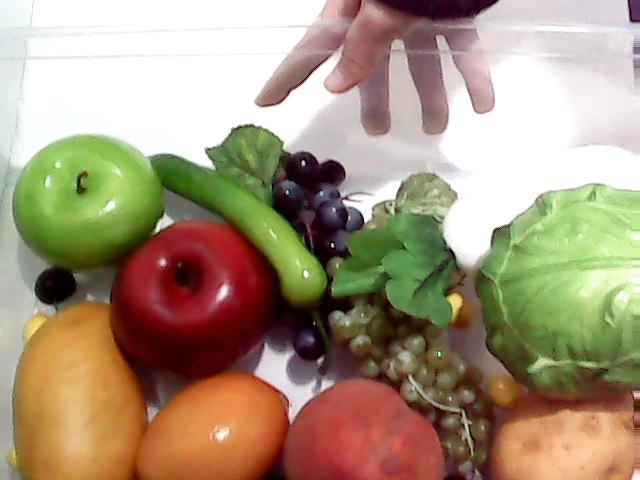apple: (112, 218, 278, 378), (6, 125, 170, 285)
cabbage: (467, 184, 640, 402)
grape: (328, 262, 488, 478), (280, 146, 368, 360)
lemon: (133, 371, 296, 480)
mango: (11, 291, 139, 480)
peach: (280, 370, 456, 480)
pepper: (148, 144, 336, 302)
potato: (487, 380, 637, 480)
radish: (332, 138, 640, 326)
